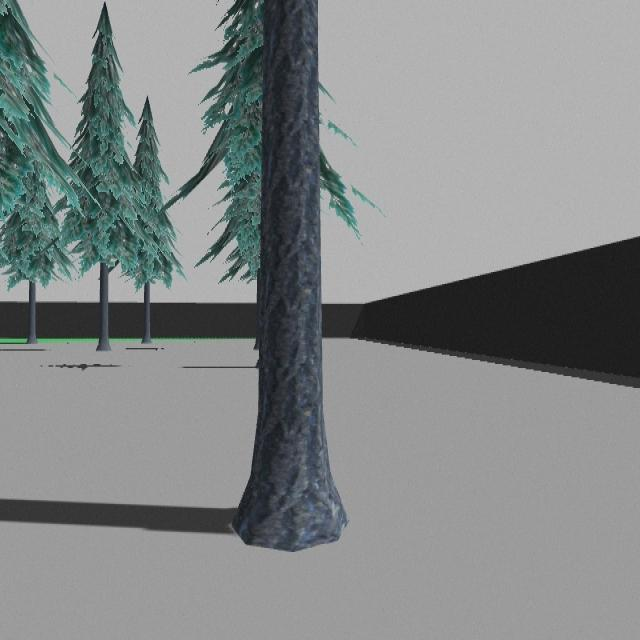tree: (232, 0, 348, 555), (65, 4, 175, 353)
